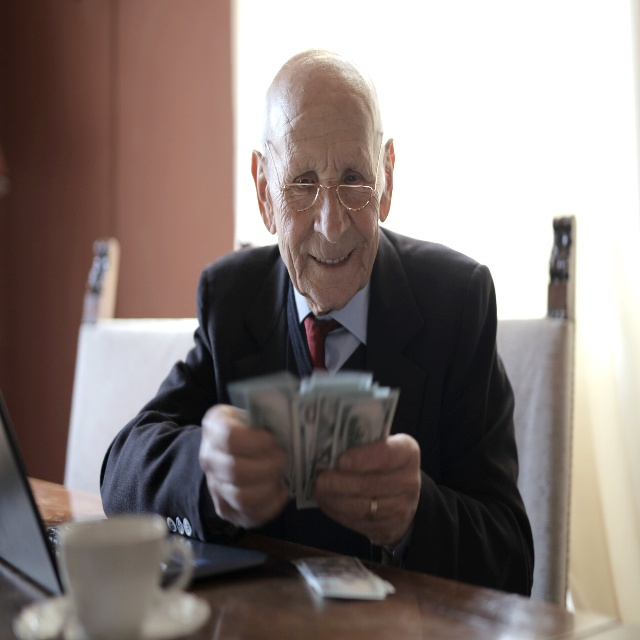Gafas: (264, 132, 384, 212)
Sin_guantes: (312, 433, 421, 548), (198, 405, 290, 531)
